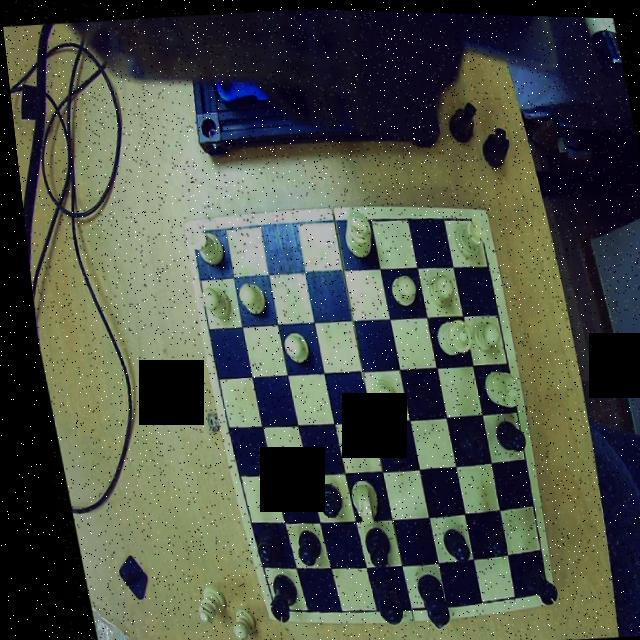chess-table-corners: (180, 221, 204, 248), (459, 205, 483, 230), (523, 572, 543, 601), (255, 598, 277, 620)
